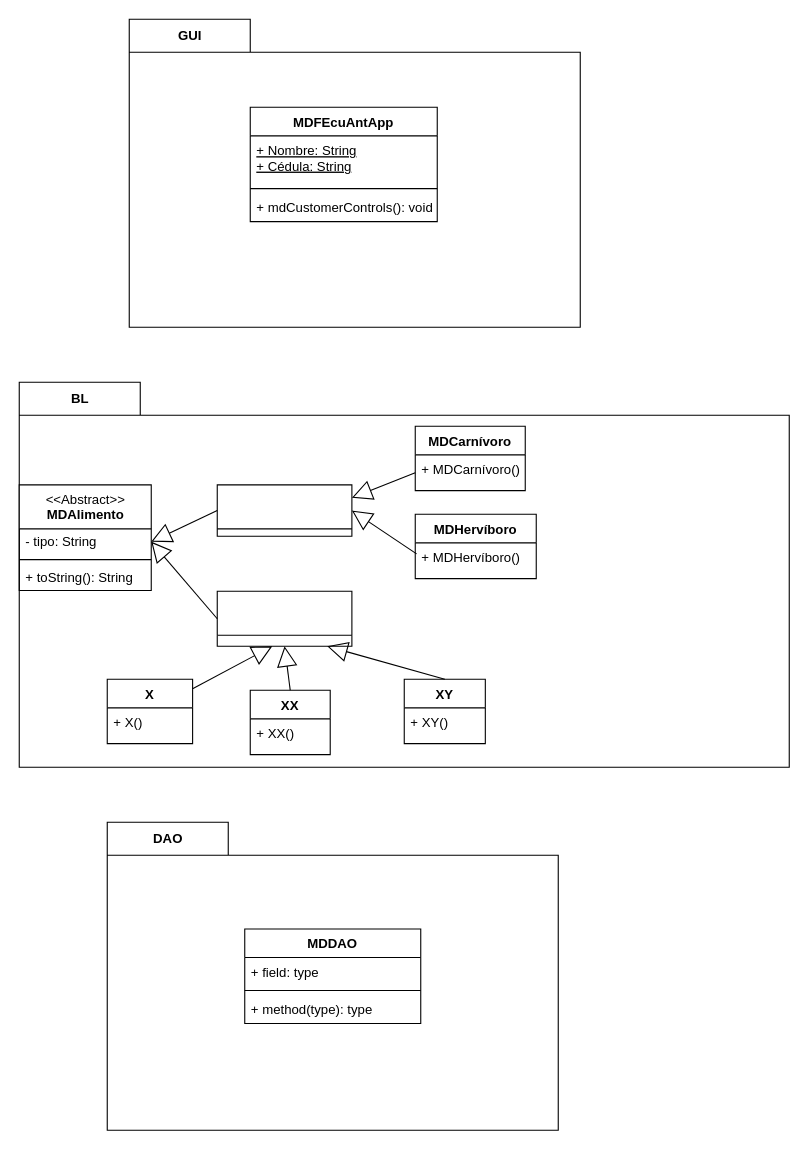
This 809x1150 diagram has some shape labels left out. Here are the shapes that lost their labels. From the top down, the centre of each, then its label:
At (284,510): "<<Abstract>> MDIngestaNativa".
At (284,618): "<<Abstract>> MDGenoAlimento".
